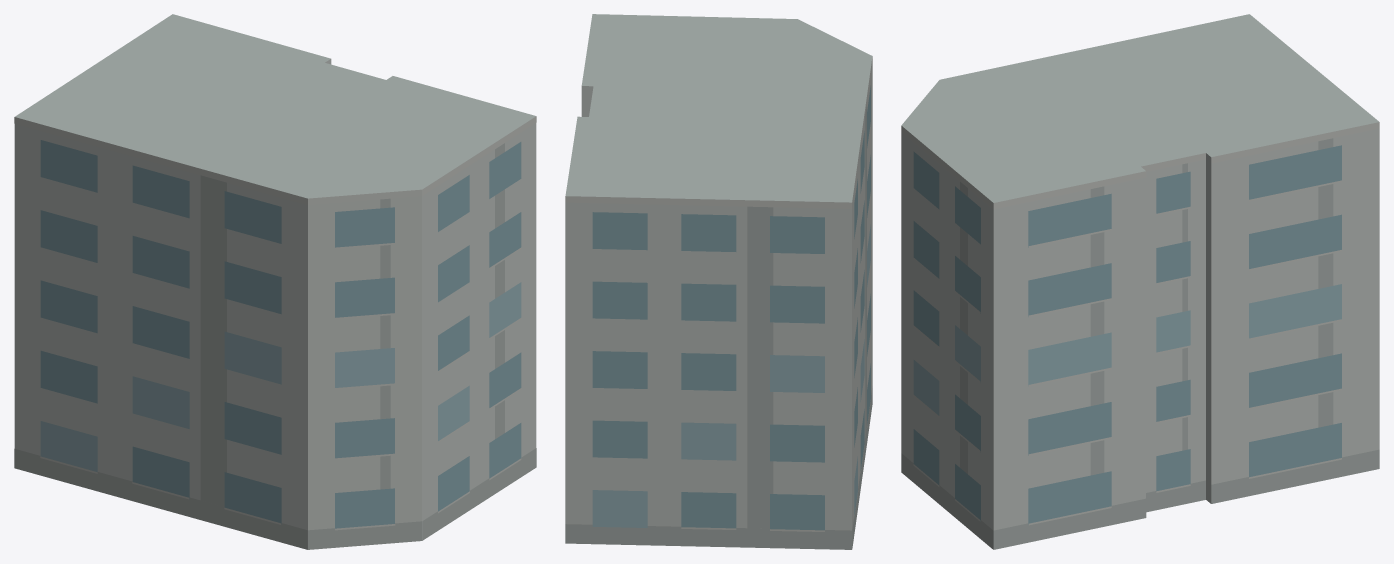
File: survey-upis-32705159.glb
3 renders of one model, left to right at view 1: azimuth 30°, elevation 25°; view 2: azimuth 150°, elevation 25°; view 3: azimuth 270°, elevation 25°, orthographic.
Parts seen in each view (by area): view 1: survey-upis-32705159.tmp; view 2: survey-upis-32705159.tmp; view 3: survey-upis-32705159.tmp.
Boxes of the visible parts, x1,y1,x2,y2 form: survey-upis-32705159.tmp: [14, 14, 536, 549]; survey-upis-32705159.tmp: [565, 14, 872, 549]; survey-upis-32705159.tmp: [901, 14, 1379, 549].
Bounding box in the file's own units: 15.2 × 13 × 16.26.
